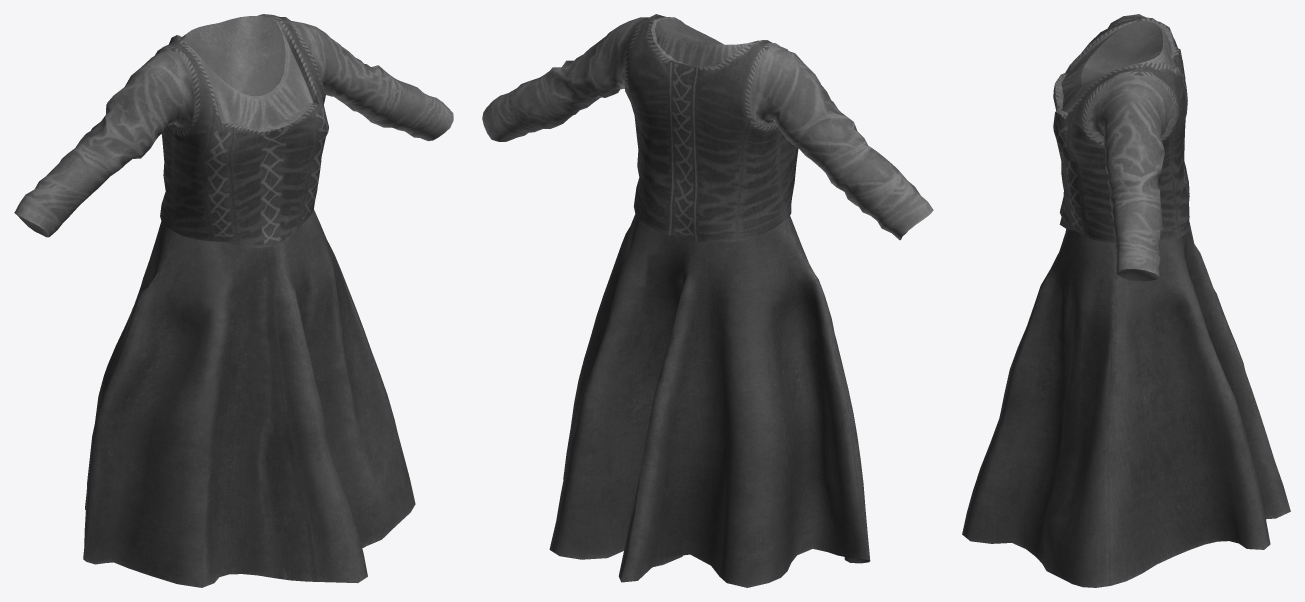
The model's file is sk_dwarf_dress_normal_f.fbx.
The picture shows the model from 3 angles, left to right: view 1: azimuth 30°, elevation 25°; view 2: azimuth 150°, elevation 25°; view 3: azimuth 270°, elevation 25°; orthographic projection. The views are drawn at different scales.
Parts seen in each view (by area): view 1: sk_dwarf_dress_normal_f.1, sk_dwarf_dress_normal_f.0; view 2: sk_dwarf_dress_normal_f.1, sk_dwarf_dress_normal_f.0; view 3: sk_dwarf_dress_normal_f.1, sk_dwarf_dress_normal_f.0.
Part boxes in pixels (x1=…): sk_dwarf_dress_normal_f.1: x1=83, y1=210, x2=415, y2=587; sk_dwarf_dress_normal_f.0: x1=14, y1=14, x2=453, y2=247; sk_dwarf_dress_normal_f.1: x1=549, y1=214, x2=870, y2=587; sk_dwarf_dress_normal_f.0: x1=482, y1=14, x2=933, y2=242; sk_dwarf_dress_normal_f.1: x1=962, y1=222, x2=1290, y2=587; sk_dwarf_dress_normal_f.0: x1=1053, y1=14, x2=1189, y2=281.
Bounding box in the file's own units: 1.21 × 0.8243 × 1.34.
2 materials, 2 textured.
